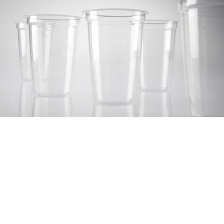glass: (79, 3, 151, 107), (177, 0, 224, 120), (27, 10, 83, 100), (129, 16, 183, 94), (11, 14, 57, 85)
